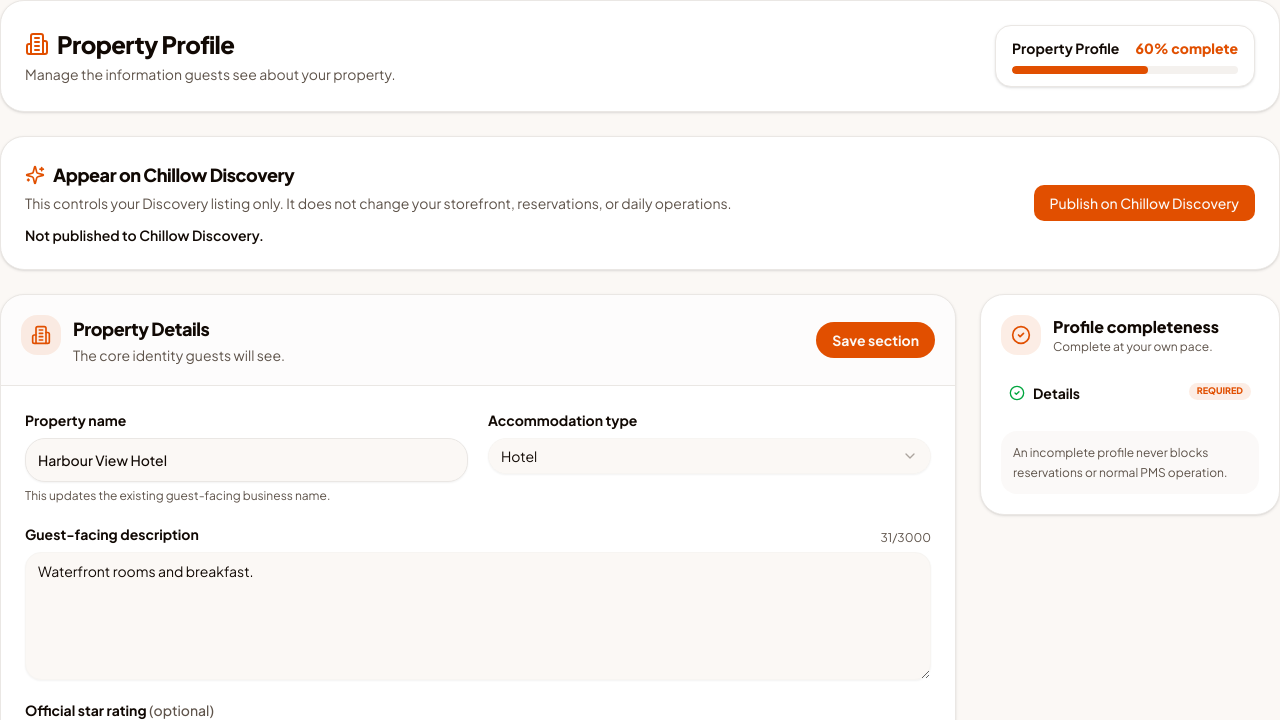
PropertyProfileSettings › publishes through the dedicated Discovery action
Step 1. Click the button "Publish on Chillow Discovery" → (1144, 203), box [1034,185,1255,221]
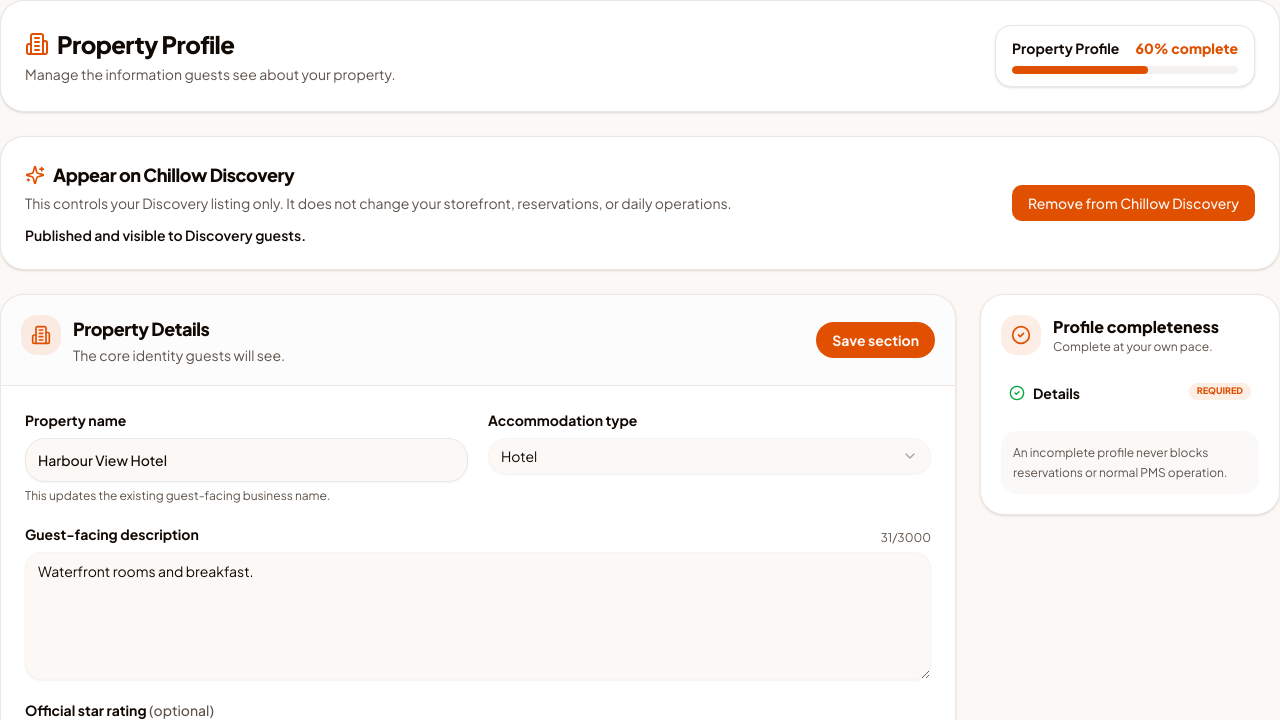
expect the button "Remove from Chillow Discovery" is shown: met, box [1012,185,1255,221]
